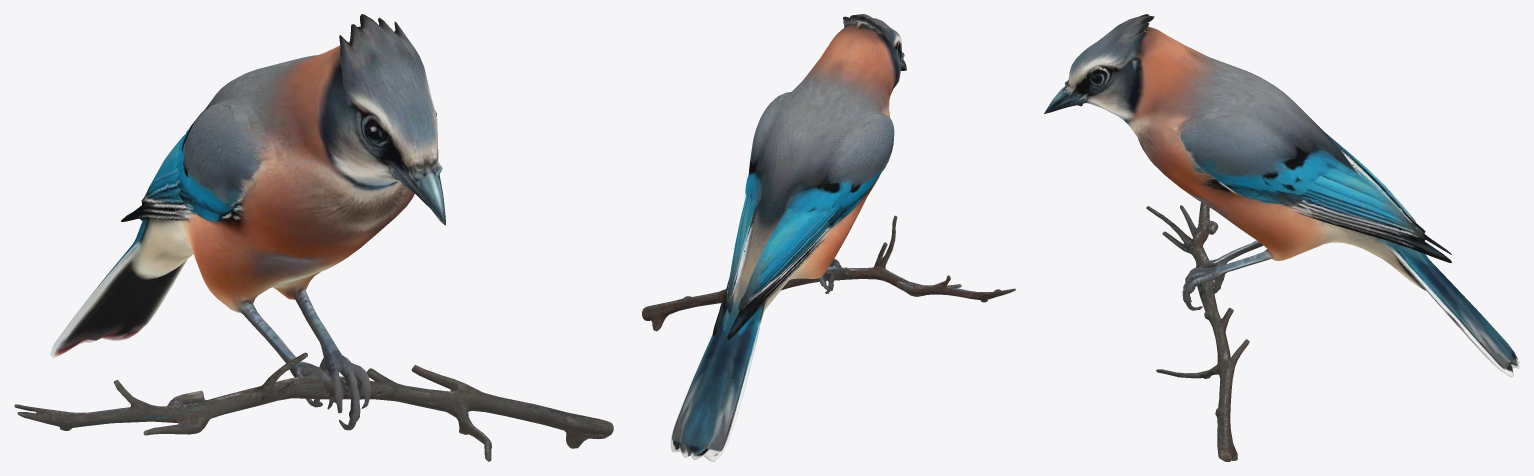
The model's file is bird-gaai.glb.
3 renders of one model, left to right at view 1: azimuth 30°, elevation 25°; view 2: azimuth 150°, elevation 25°; view 3: azimuth 270°, elevation 25°, orthographic. The views are drawn at different scales.
Bounding box in the file's own units: 1.85 × 1.58 × 1.91.
1 material, 1 textured.
